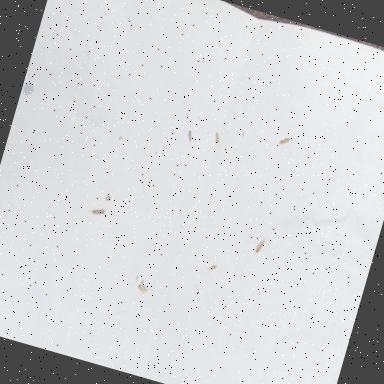pbw: (88, 201, 110, 218), (136, 283, 149, 296), (256, 238, 266, 254), (280, 136, 294, 147), (212, 130, 222, 144), (186, 131, 194, 143), (207, 264, 217, 272)
